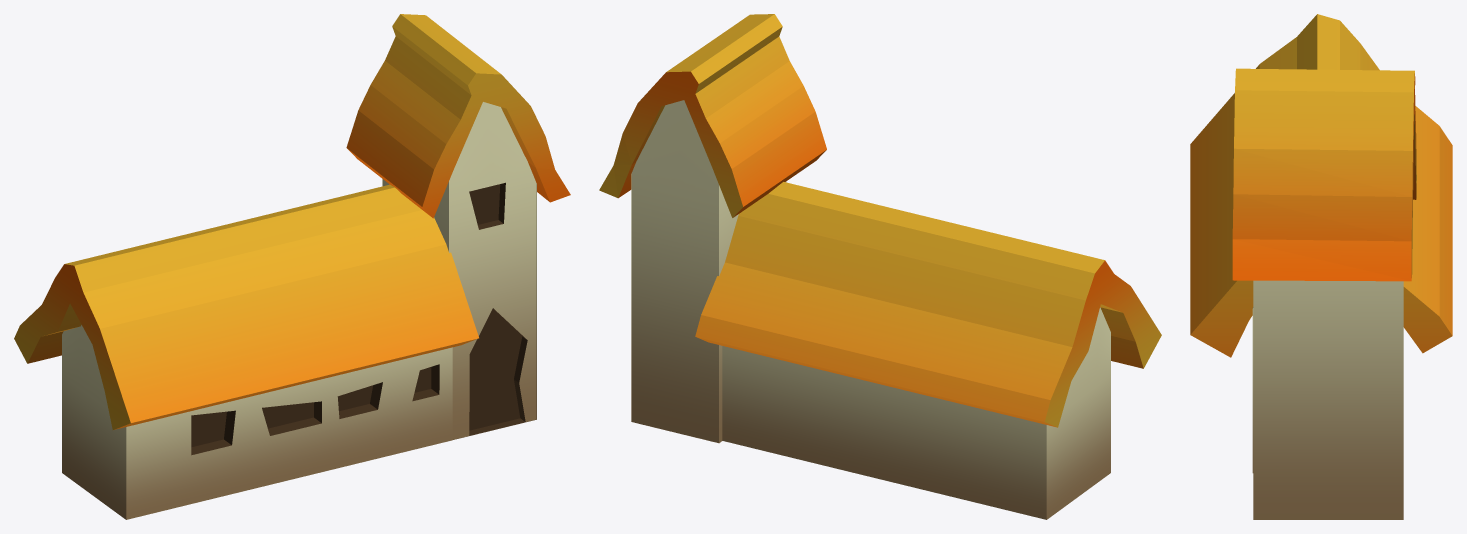
File: kirche.fbx
The picture shows the model from 3 angles, left to right: view 1: azimuth 30°, elevation 25°; view 2: azimuth 150°, elevation 25°; view 3: azimuth 270°, elevation 25°; orthographic projection. The views are drawn at different scales.
Visible parts, largest first — view 1: KIRCHE_1; view 2: KIRCHE_1; view 3: KIRCHE_1.
Part boxes in pixels (box(x1,y1,x2,y2)): KIRCHE_1: box(14, 14, 570, 519); KIRCHE_1: box(599, 14, 1161, 519); KIRCHE_1: box(1190, 14, 1452, 519).
Size of the model in its own units: 2026 by 1543 by 887.
